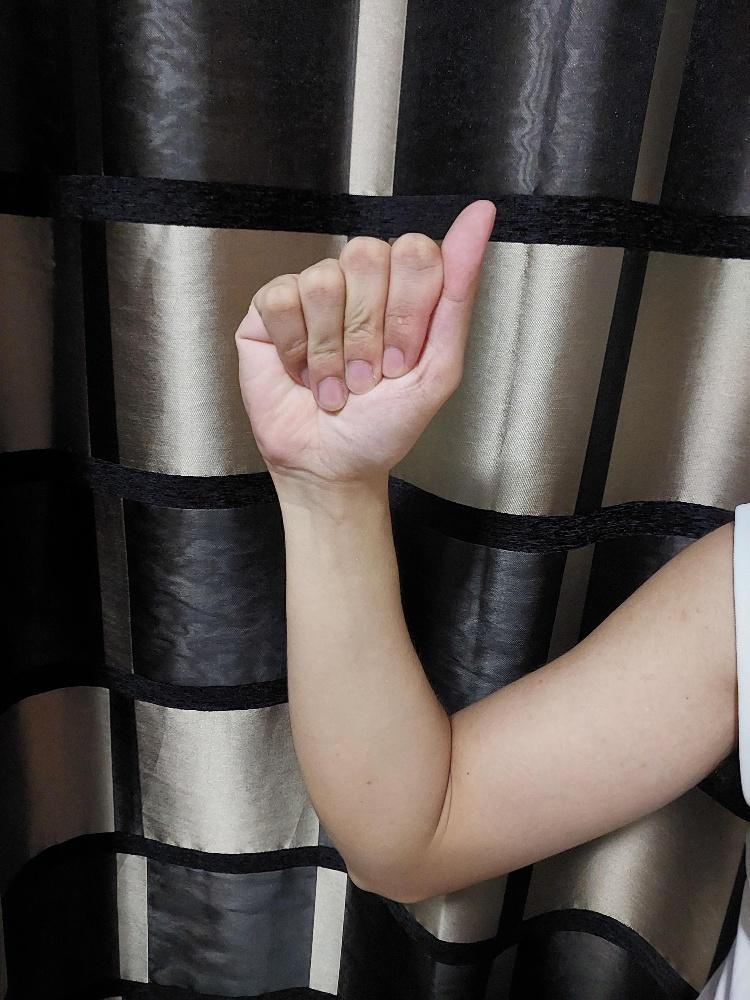a: (231, 192, 498, 485)
